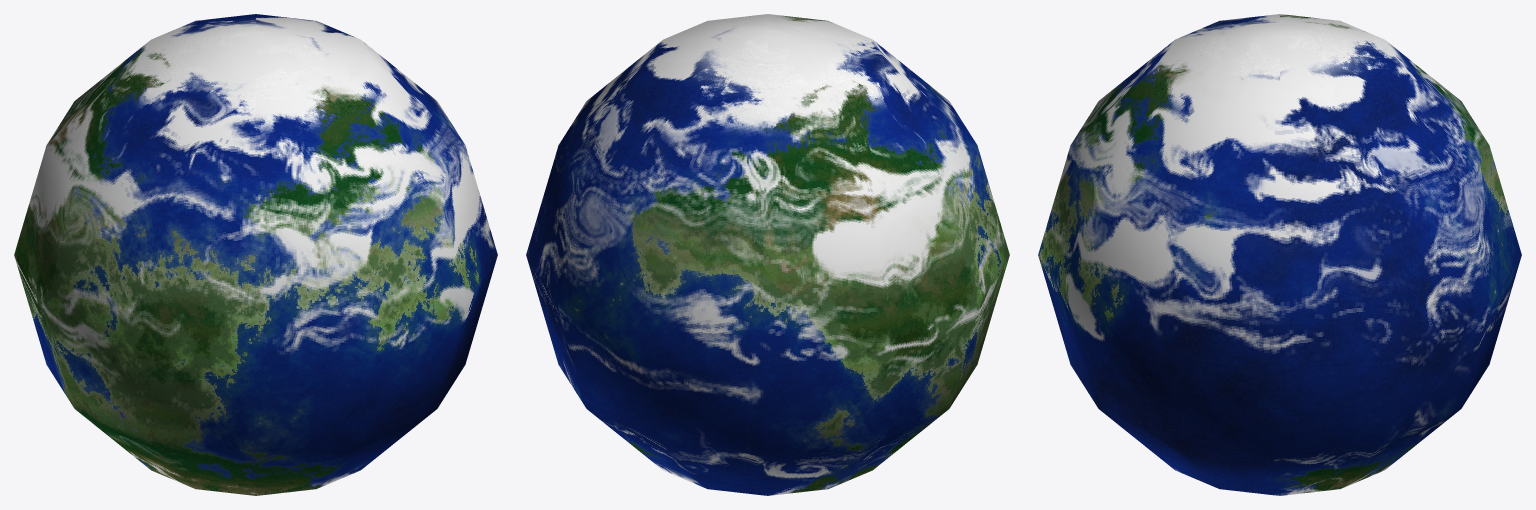
File: earth.glb
3 renders of one model, left to right at view 1: azimuth 30°, elevation 25°; view 2: azimuth 150°, elevation 25°; view 3: azimuth 270°, elevation 25°, orthographic.
Parts seen in each view (by area): view 1: Sphere; view 2: Sphere; view 3: Sphere.
Part boxes in pixels (bbox=[...]): Sphere: bbox=[14, 14, 497, 495]; Sphere: bbox=[526, 14, 1009, 495]; Sphere: bbox=[1038, 14, 1521, 495].
Bounding box in the file's own units: 397 × 397 × 397.
1 material, 1 textured.
